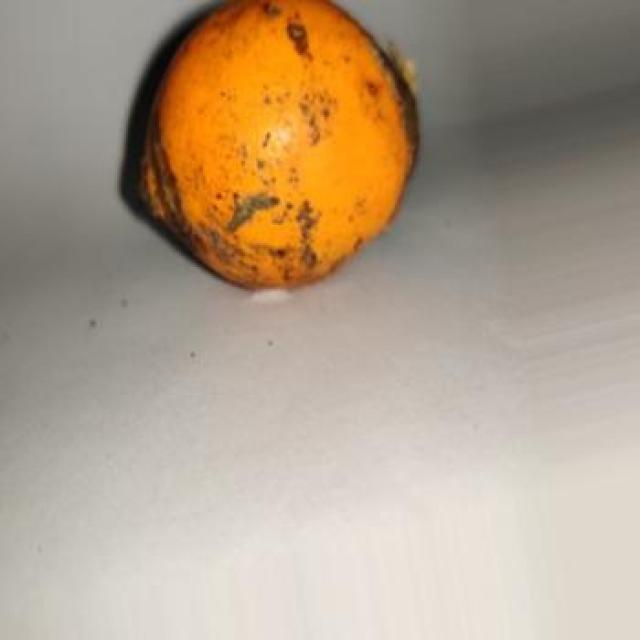good: (119, 0, 421, 293)
